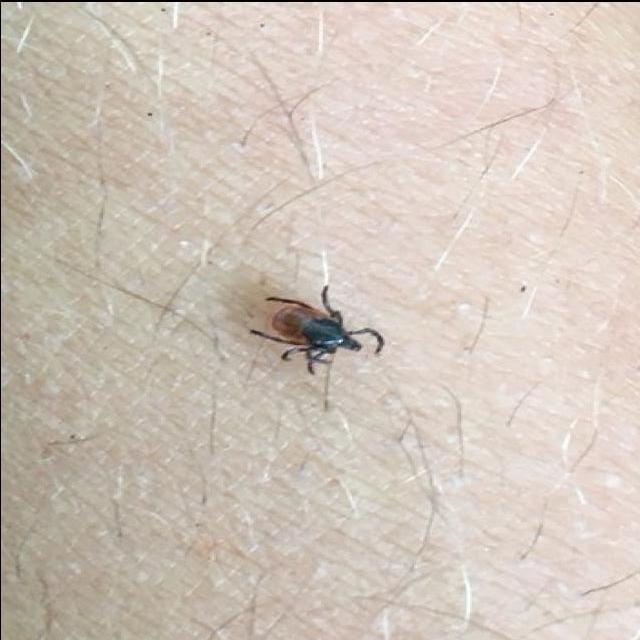Ixodes Ricinus-F: (251, 284, 384, 374)
